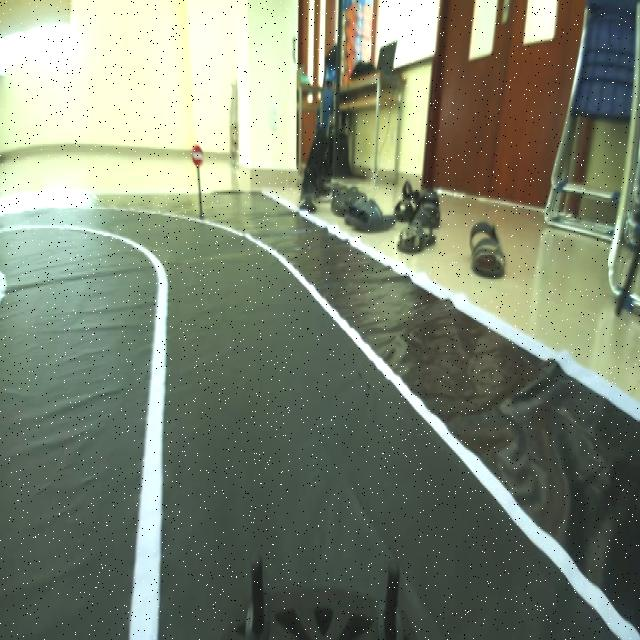no_entry: (188, 141, 207, 168)
